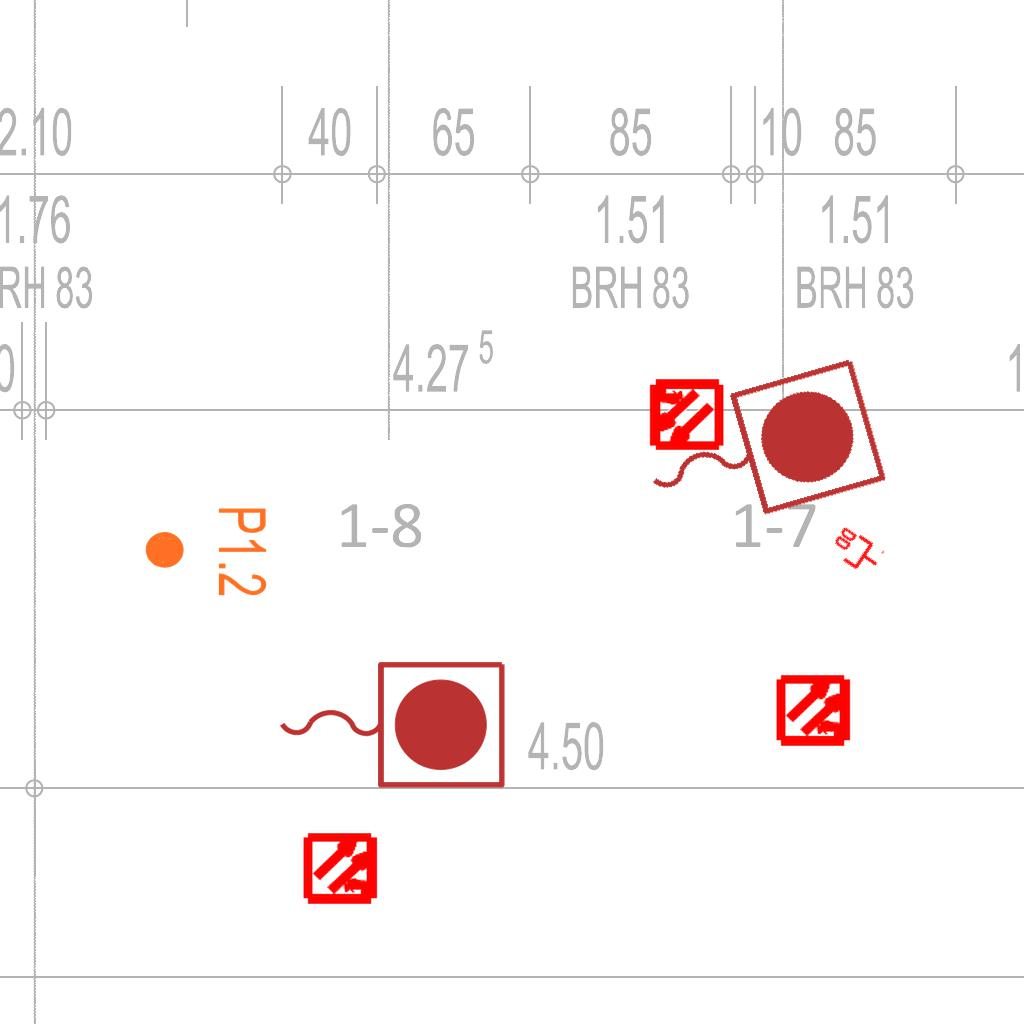Datenanschluss_zweifach: (825, 523, 887, 580)
Downlight_LED_Einbauleuchten_Flur: (142, 505, 270, 598)
OT_Multisensormelder_(Kombination_RMO_WMD): (286, 812, 399, 925), (759, 654, 872, 767), (628, 358, 741, 471)
Zugtaster: (621, 346, 897, 552), (269, 651, 513, 795)
